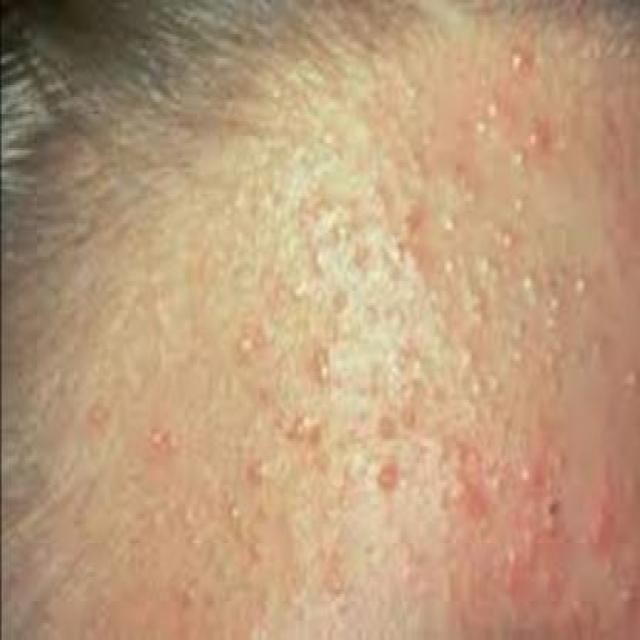Whiteheads: (565, 257, 603, 313), (298, 349, 348, 390), (470, 238, 504, 298), (277, 394, 317, 442), (476, 77, 510, 130), (235, 445, 271, 491), (509, 250, 548, 291), (498, 36, 532, 82), (503, 135, 532, 183), (366, 464, 409, 496), (436, 204, 466, 246), (510, 178, 536, 226), (544, 282, 564, 344), (454, 327, 483, 368), (512, 450, 537, 496), (332, 202, 354, 250), (307, 238, 338, 272), (389, 395, 420, 428), (372, 402, 398, 440), (288, 267, 317, 301), (439, 248, 463, 289), (462, 361, 483, 407), (494, 541, 524, 573), (232, 330, 254, 370), (488, 366, 509, 399), (620, 356, 637, 395)
